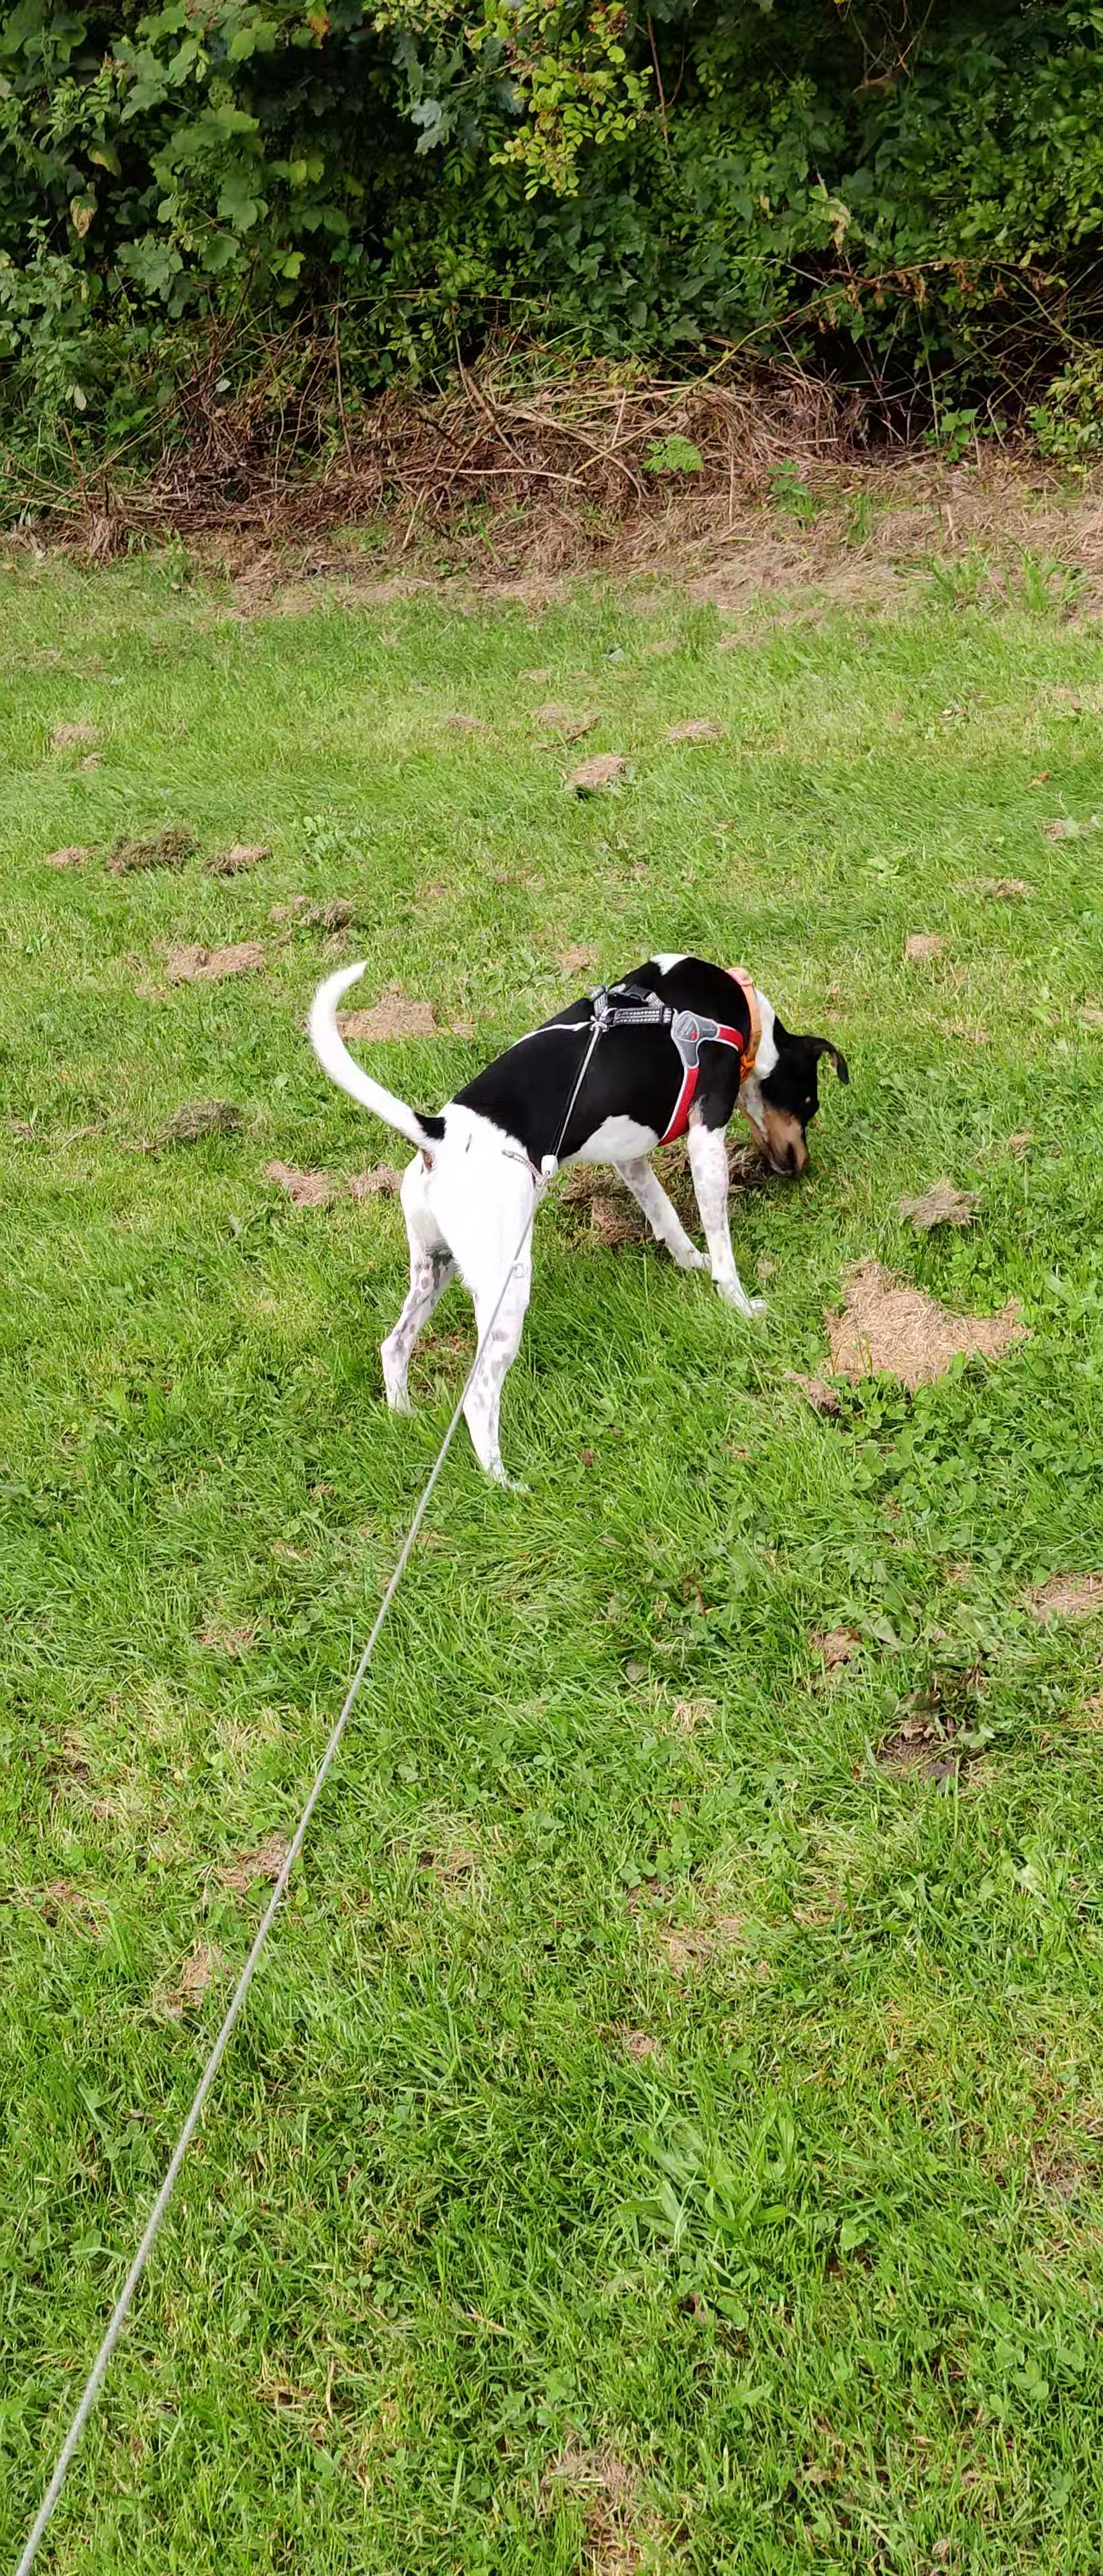Dog: (291, 936, 876, 1503)
